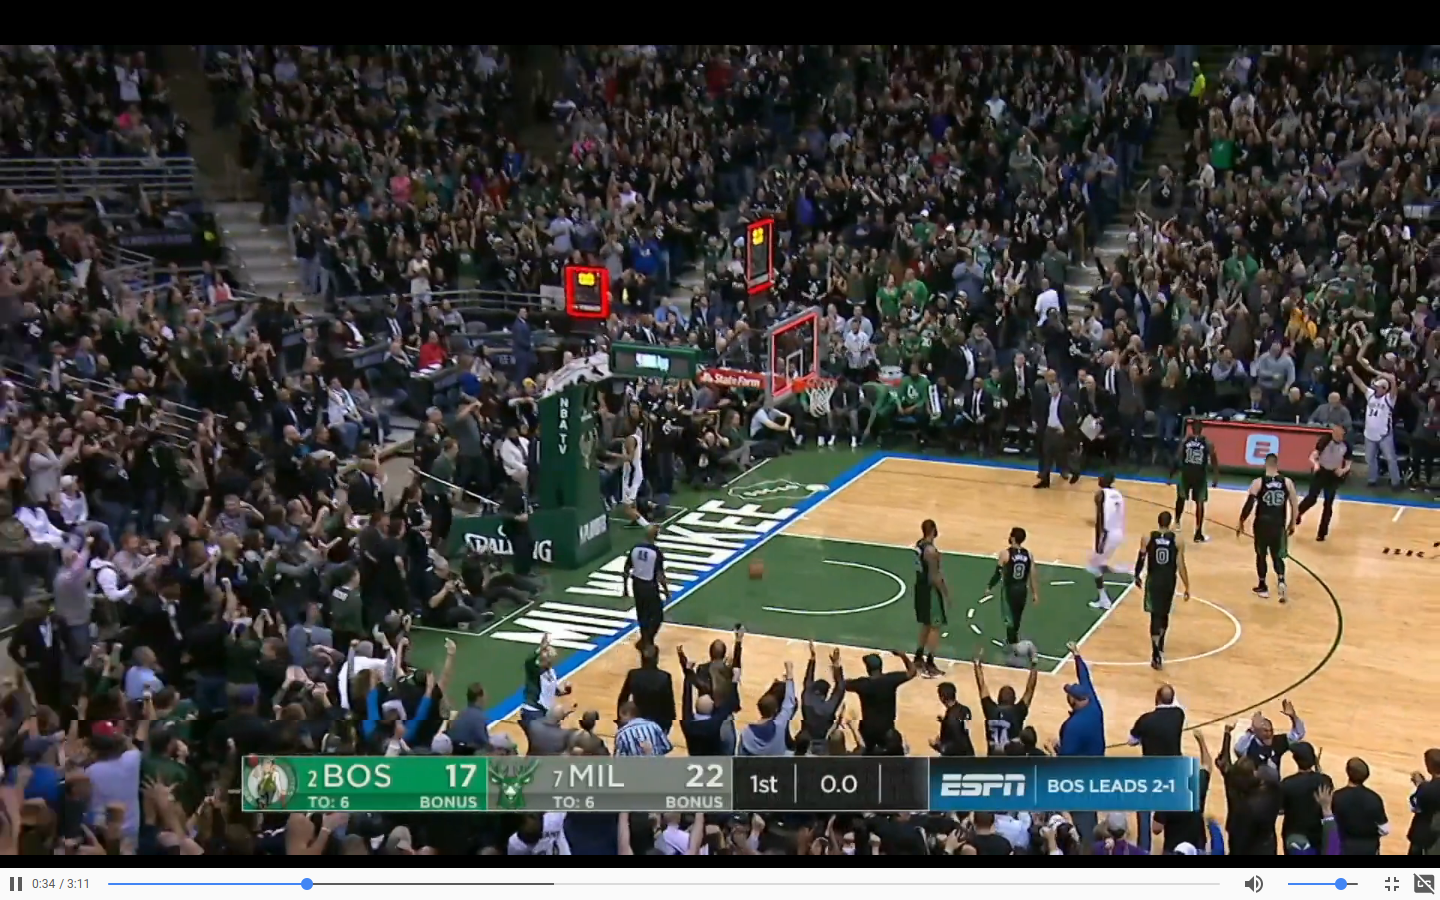basketball: (745, 554, 770, 585)
basketball player: (1239, 452, 1301, 608), (1132, 511, 1188, 677), (982, 516, 1042, 660), (1079, 471, 1132, 616), (907, 517, 953, 682), (1167, 420, 1221, 545), (615, 414, 655, 536)
referee: (622, 525, 678, 660), (1299, 423, 1355, 549)
